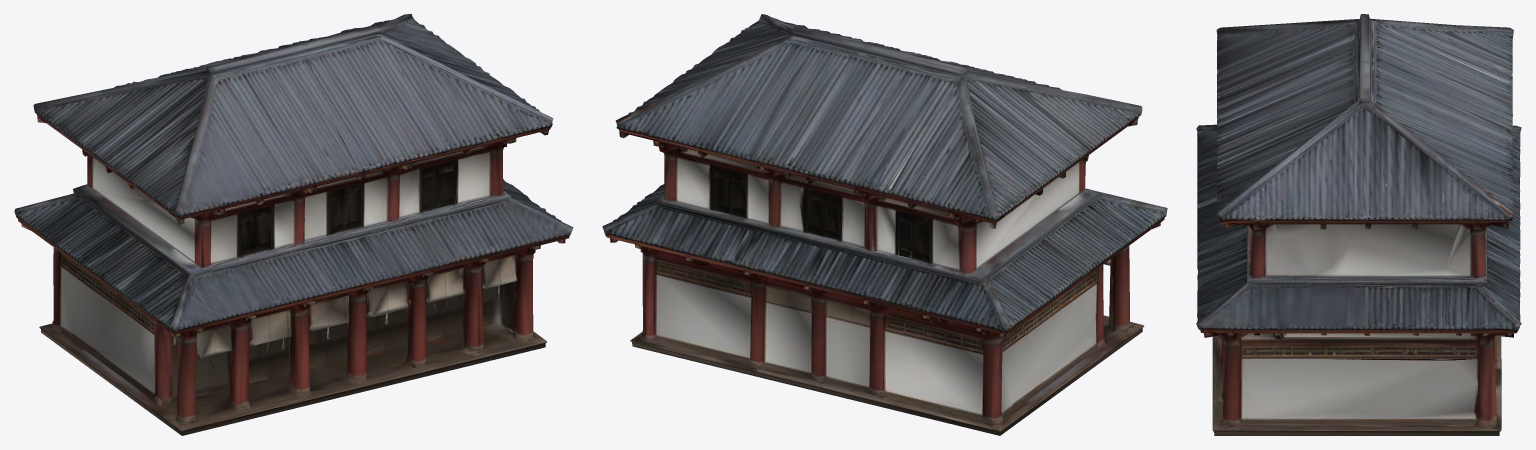
File: hall2_lod0.glb
3 views of the same model, side by side, from view 1: azimuth 30°, elevation 25°; view 2: azimuth 150°, elevation 25°; view 3: azimuth 270°, elevation 25° (orthographic).
Visible parts, largest first — view 1: node_0; view 2: node_0; view 3: node_0.
Part boxes in pixels (x1,y1,x2,y2): node_0: (14,14,573,435); node_0: (602,14,1167,435); node_0: (1196,14,1521,435).
Size of the model in its own units: 0.9281 by 0.6356 by 0.6414.
1 material, 1 textured.
